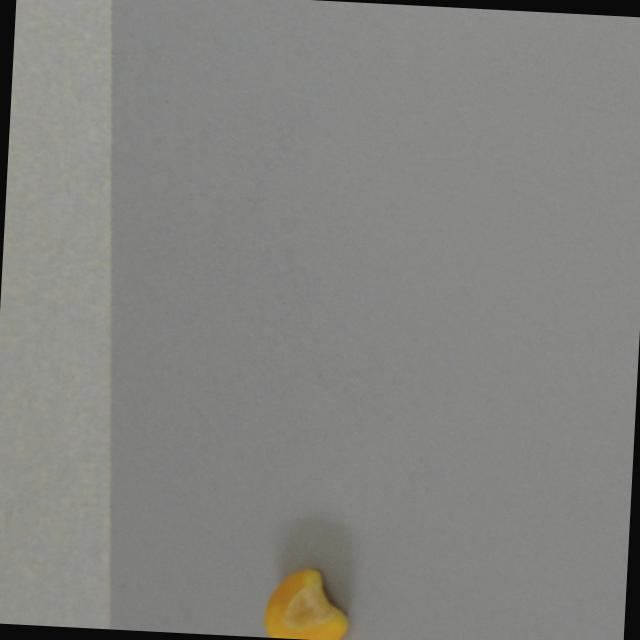no_canjicado: (258, 560, 356, 640)
